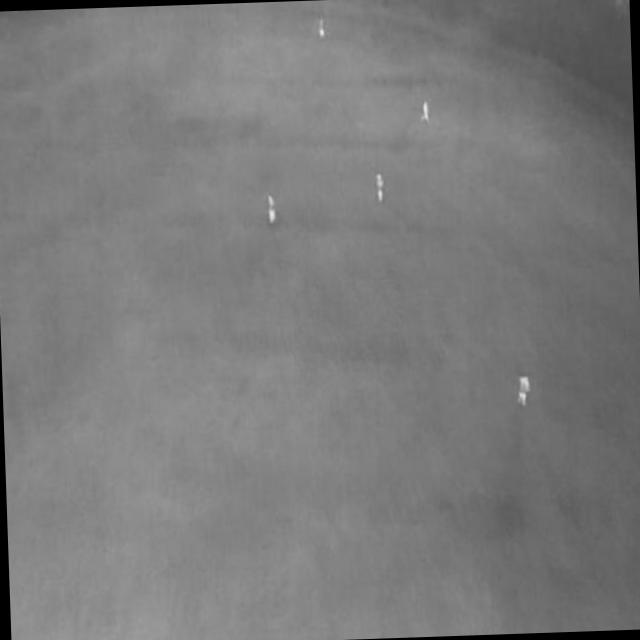person: (515, 374, 533, 410), (376, 174, 387, 204), (267, 195, 277, 225), (419, 100, 430, 124), (317, 17, 326, 41)
